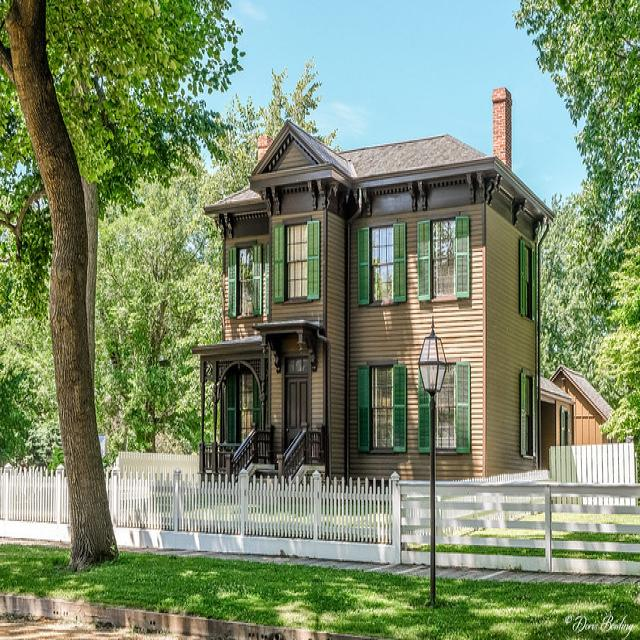building: (188, 116, 556, 516)
